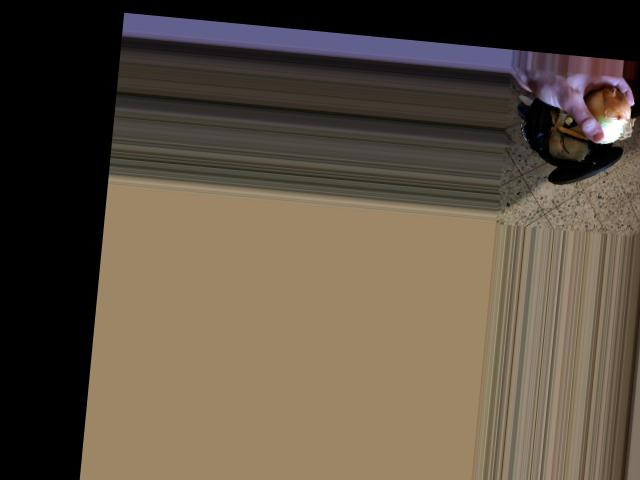onion: (575, 88, 634, 143)
